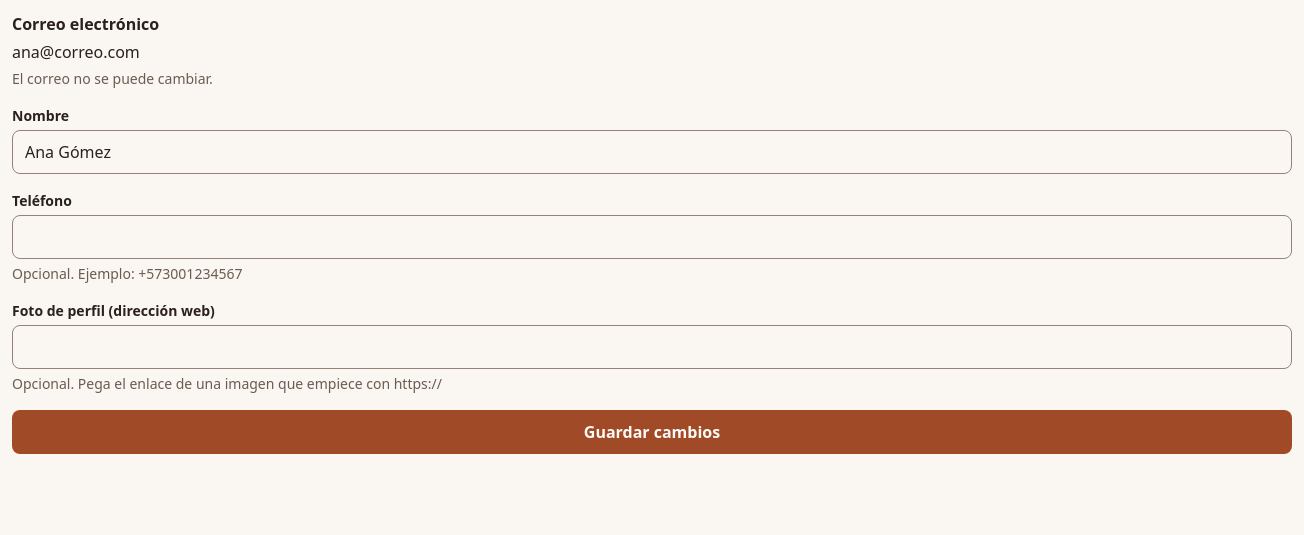
it: DatosPerfil › si la API rechaza los datos muestra su mensaje y el error del campo
Click the button "Guardar cambios" at point(652, 432), box [12,410,1292,454]
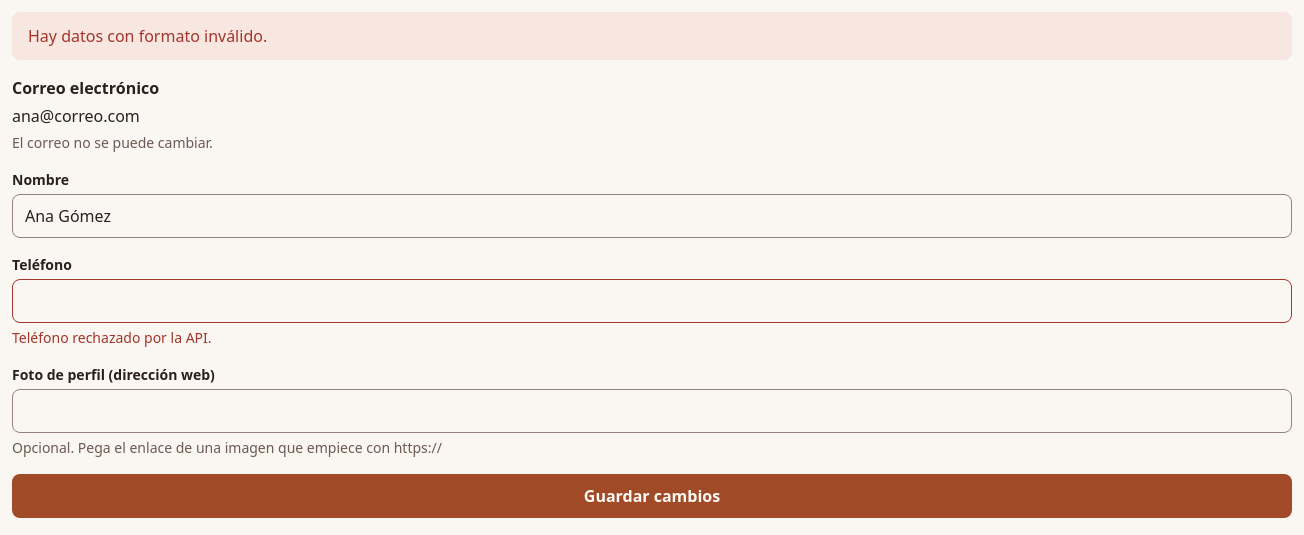
Expected: the message reads "Hay datos con formato inválido.", [28,25,267,47]
Expected: the text "Teléfono rechazado por la API." is shown, [12,328,212,347]
